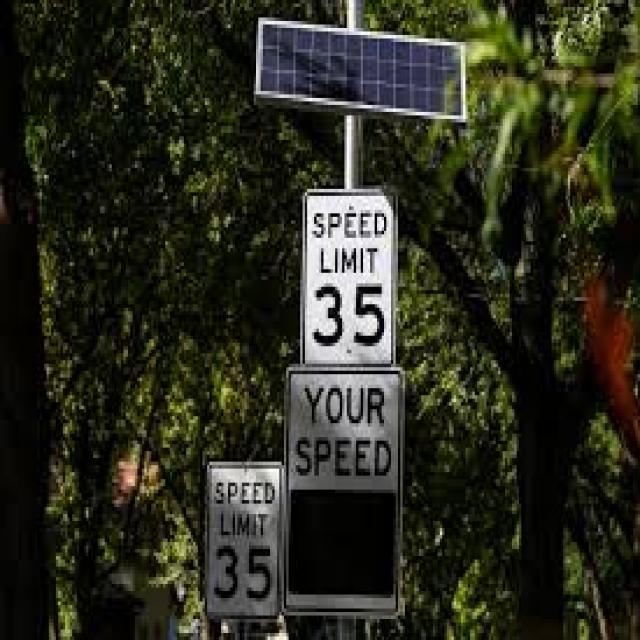speedLimit35: (304, 194, 390, 373), (208, 463, 280, 618)
